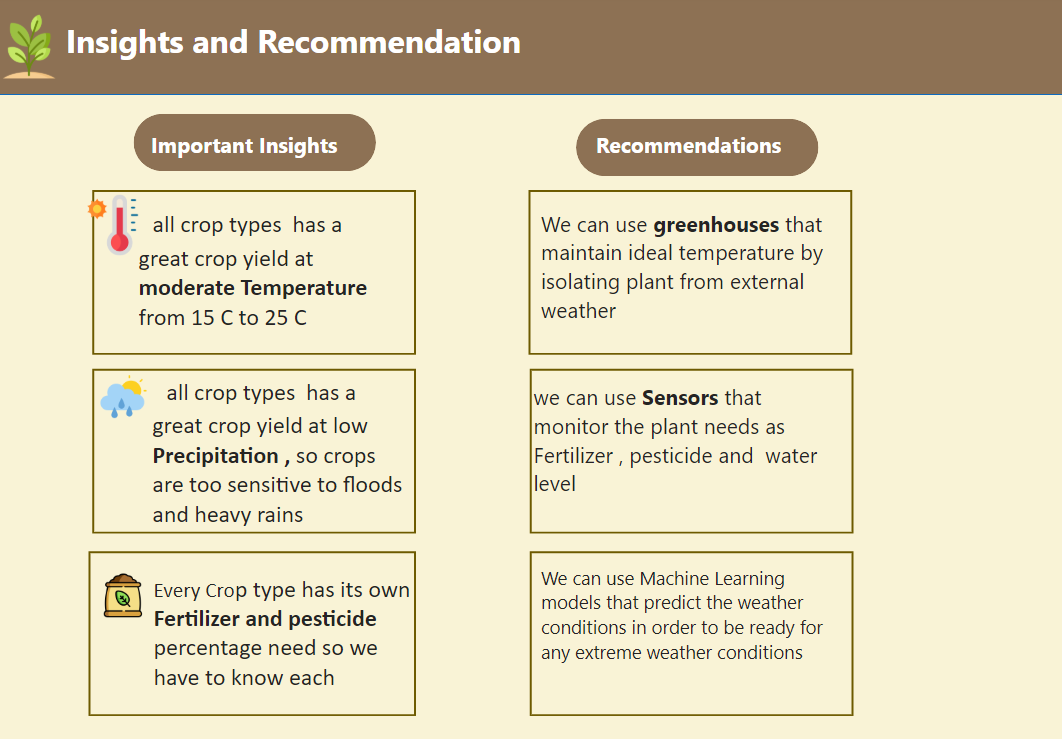

Layout of this report page (visuals, bound fields, positions):
{"tool":"powerbi","page":{"name":"Insights and Recommendation","canvas":[1080,750],"ordinal":3},"visuals":[{"type":"shape","box":[0,0,1600.5,100.5],"z":0},{"type":"textbox","box":[70,19.3,488.6,63.9],"z":1000},{"type":"image","box":[0,14.5,77.2,73.6],"z":2000},{"type":"shape","box":[143.3,119.4,243.8,57.8],"z":3000},{"type":"textbox","box":[155.8,130.7,213.6,46.5],"z":4000},{"type":"shape","box":[101.8,196,325.5,165.9],"z":5000},{"type":"image","box":[64.1,196,116.9,70.4],"z":6000},{"type":"textbox","box":[143.3,207.4,265.2,167.1],"z":7000},{"type":"shape","box":[101.3,375.8,325.5,165.9],"z":8000},{"type":"image","box":[71.1,375.8,123.2,56.6],"z":9000},{"type":"textbox","box":[156.6,375.8,265.2,165.9],"z":10000},{"type":"shape","box":[97.5,559.2,329.3,165.9],"z":11000},{"type":"image","box":[83.7,576.8,96.8,54],"z":12000},{"type":"textbox","box":[157.8,576.8,282.8,148.3],"z":13000},{"type":"shape","box":[588.1,124.4,243.8,57.8],"z":14000},{"type":"textbox","box":[603.2,130.7,213.6,46.5],"z":15000},{"type":"shape","box":[540.4,196,325.5,165.9],"z":16000},{"type":"textbox","box":[547.9,209.9,312.9,152.1],"z":17000},{"type":"shape","box":[541.6,375.8,325.5,165.9],"z":18000},{"type":"textbox","box":[540.4,384.6,315.4,147],"z":19000},{"type":"shape","box":[541.6,559.2,325.5,165.9],"z":20000},{"type":"textbox","box":[547.9,568,315.4,147],"z":21000}]}

Visuals, with their boxes in screenshot pixels (x1, y1, x2, y2), scaled from the page's 1080x750 canvas onto the 1062x739 screenshot:
shape: locate(0, 0, 1061, 99)
textbox: locate(69, 19, 549, 82)
image: locate(0, 14, 76, 87)
shape: locate(141, 118, 381, 175)
textbox: locate(153, 129, 363, 175)
shape: locate(100, 193, 420, 357)
image: locate(63, 193, 178, 262)
textbox: locate(141, 204, 402, 369)
shape: locate(100, 370, 420, 534)
image: locate(70, 370, 191, 426)
textbox: locate(154, 370, 415, 534)
shape: locate(96, 551, 420, 714)
image: locate(82, 568, 177, 622)
textbox: locate(155, 568, 433, 714)
shape: locate(578, 123, 818, 180)
textbox: locate(593, 129, 803, 175)
shape: locate(531, 193, 851, 357)
textbox: locate(539, 207, 846, 357)
shape: locate(533, 370, 853, 534)
textbox: locate(531, 379, 842, 524)
shape: locate(533, 551, 853, 714)
textbox: locate(539, 560, 849, 705)
